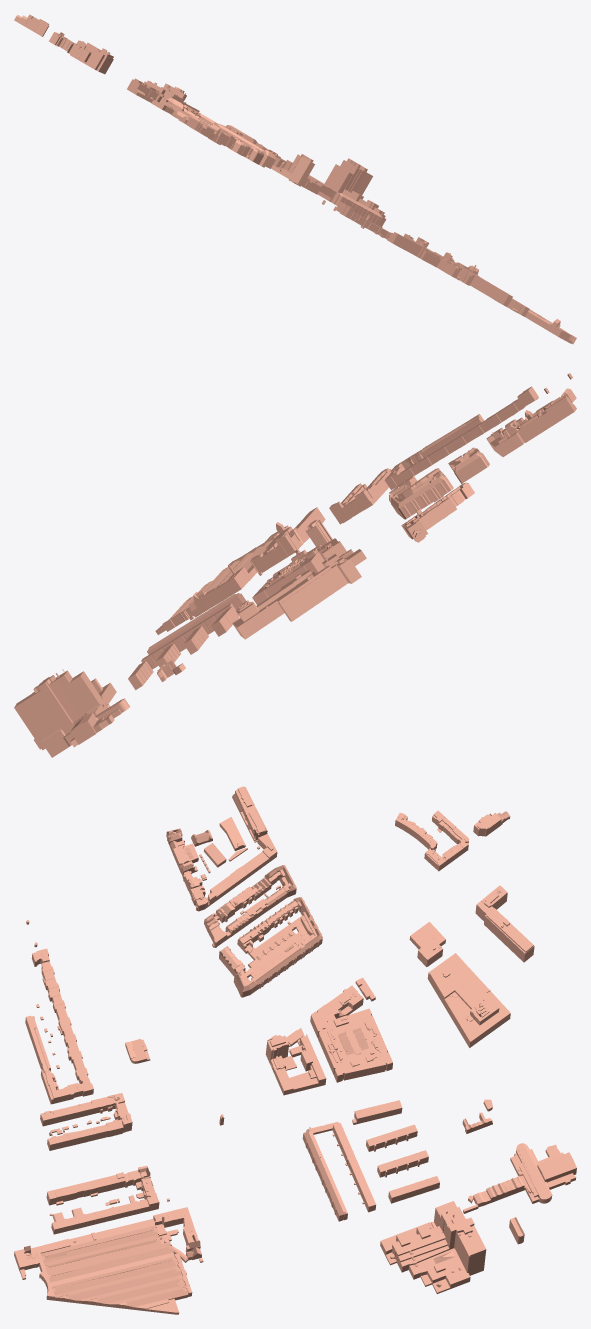
3 renders of one model, top to bottom at view 1: azimuth 30°, elevation 25°; view 2: azimuth 150°, elevation 25°; view 3: azimuth 270°, elevation 25°, orthographic. The views are drawn at different scales.
Size of the model in its own units: 1.87e+07 by 1.46e+07 by 2.22e+07.
